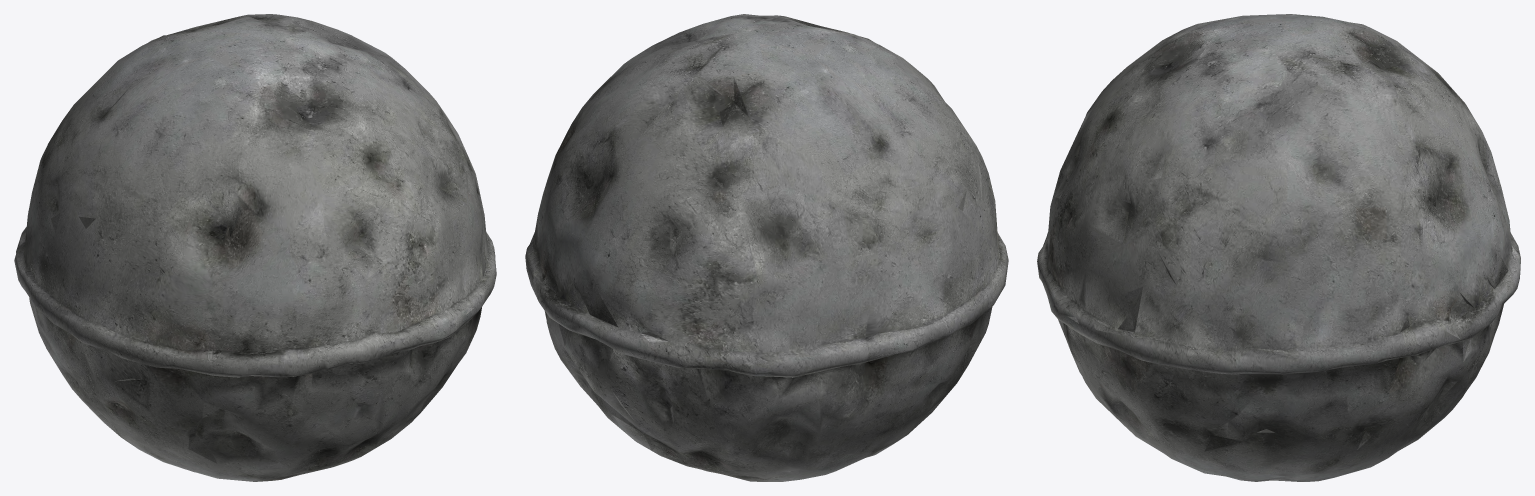
3 views of the same model, side by side, from view 1: azimuth 30°, elevation 25°; view 2: azimuth 150°, elevation 25°; view 3: azimuth 270°, elevation 25° (orthographic).
Parts seen in each view (by area): view 1: Mesh_0; view 2: Mesh_0; view 3: Mesh_0.
Part boxes in pixels (x1,y1,x2,y2): Mesh_0: (14, 14, 496, 481); Mesh_0: (525, 14, 1008, 481); Mesh_0: (1037, 14, 1520, 481).
Bounding box in the file's own units: 3582916 × 3474000 × 3582669.
Materials: 1 (1 with a texture image).
